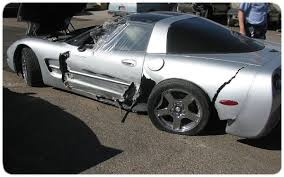Broken-glass: (59, 22, 152, 58)
Smashed: (6, 20, 250, 117)
